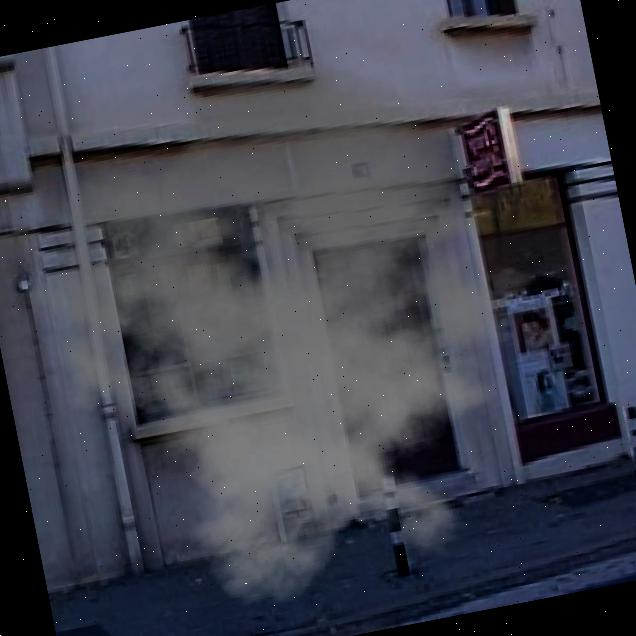smoke: (0, 20, 613, 636)
